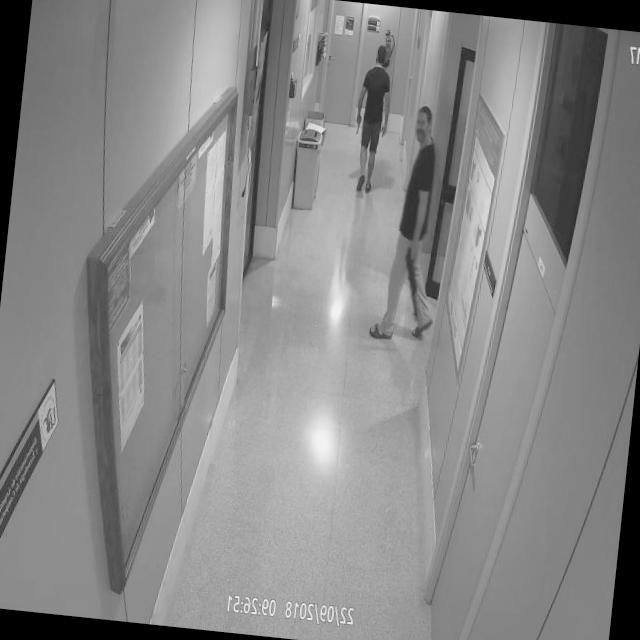gun: (394, 243, 426, 328)
person: (351, 43, 396, 200)
person with a gun: (366, 100, 455, 347)
